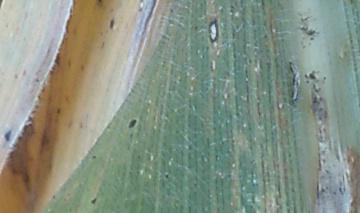tarspot: (125, 117, 138, 130), (89, 196, 99, 206), (91, 153, 98, 160), (193, 24, 200, 31), (164, 172, 170, 180)
